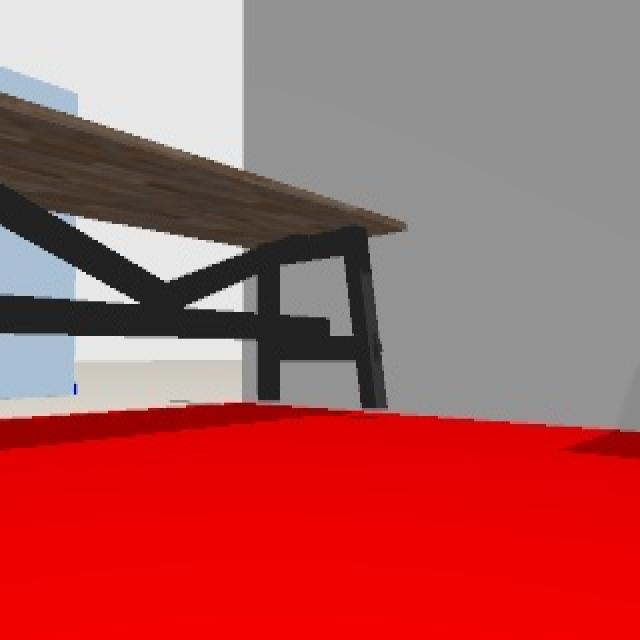dining: (3, 90, 418, 412)
